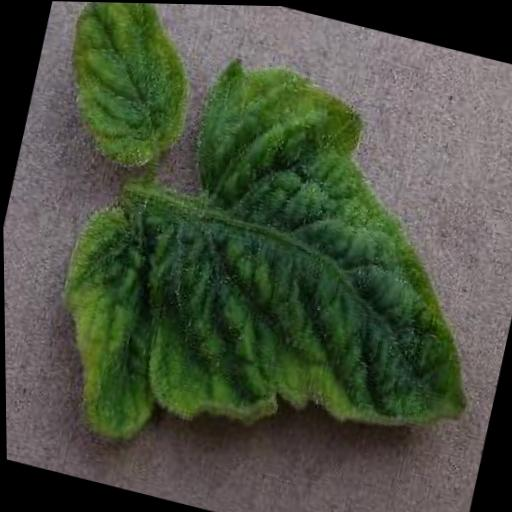Yellow Leaf Curl Virus: (26, 21, 512, 512), (46, 1, 214, 180)
